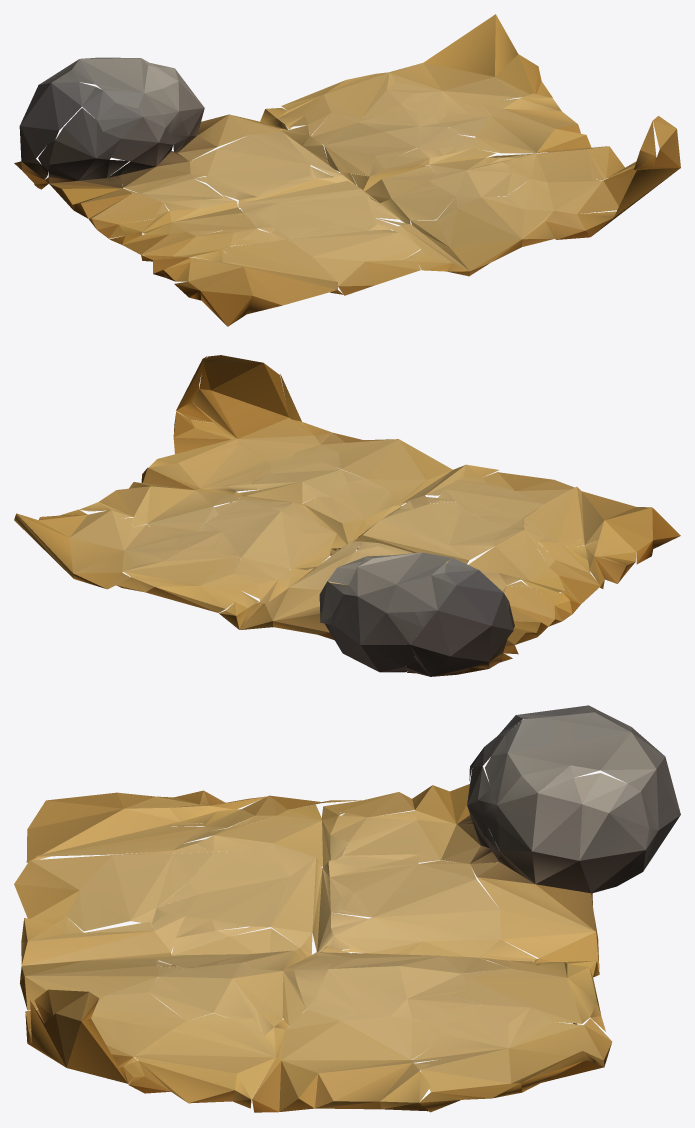
File: building-predecessorNote.glb
3 views of the same model, one above another, from view 1: azimuth 30°, elevation 25°; view 2: azimuth 150°, elevation 25°; view 3: azimuth 270°, elevation 25° (orthographic). The views are drawn at different scales.
Visible parts, largest first — view 1: 0_predecessorNote; view 2: 0_predecessorNote; view 3: 0_predecessorNote.
Boxes of the visible parts, <box> form: 0_predecessorNote: <box>14,14,680,326</box>; 0_predecessorNote: <box>14,355,680,676</box>; 0_predecessorNote: <box>14,705,680,1112</box>.
Size of the model in its own units: 0.4637 by 0.09 by 0.3994.
